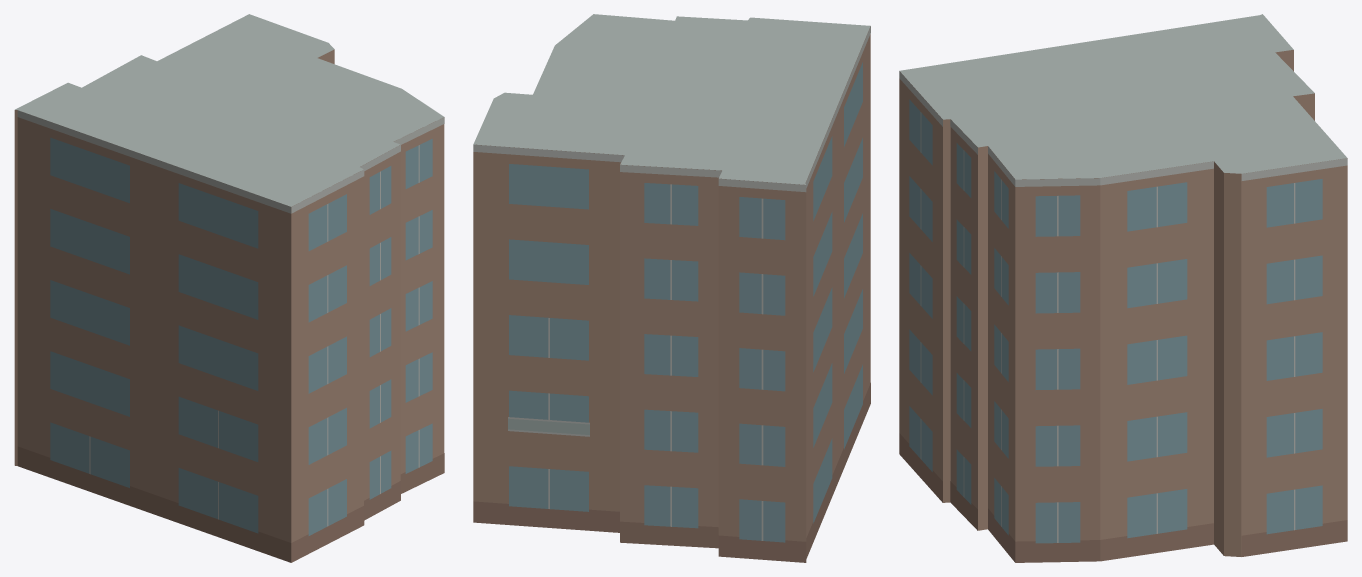
The model's file is survey-upis-32625355.glb.
3 views of the same model, side by side, from view 1: azimuth 30°, elevation 25°; view 2: azimuth 150°, elevation 25°; view 3: azimuth 270°, elevation 25° (orthographic). The views are drawn at different scales.
Visible parts, largest first — view 1: survey-upis-32625355.tmp; view 2: survey-upis-32625355.tmp; view 3: survey-upis-32625355.tmp.
Boxes of the visible parts, box(x1,y1,x2,y2) form: survey-upis-32625355.tmp: box(14, 14, 444, 562); survey-upis-32625355.tmp: box(473, 14, 870, 562); survey-upis-32625355.tmp: box(899, 14, 1347, 562).
Bounding box in the file's own units: 11.68 × 12.6 × 13.36.
